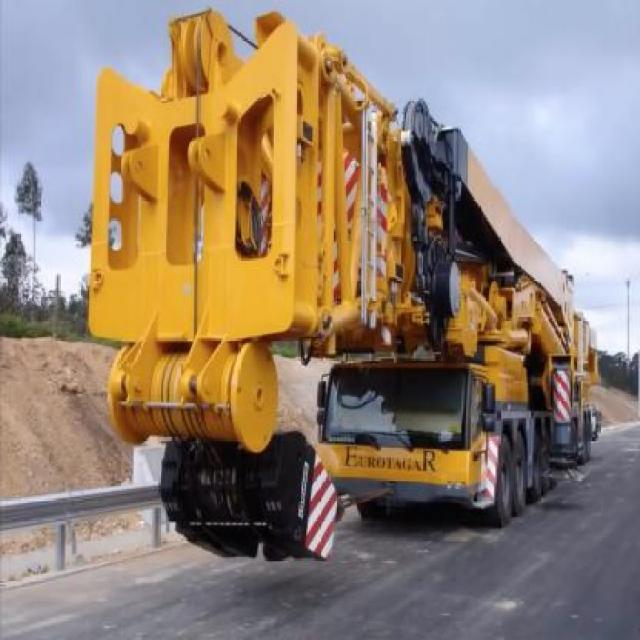Mobile Crane: (88, 11, 600, 554)
